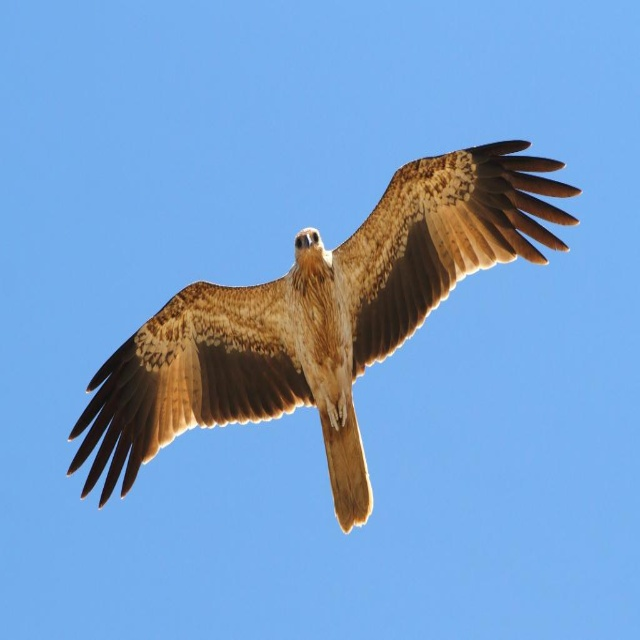Eagle: (63, 133, 585, 536)
